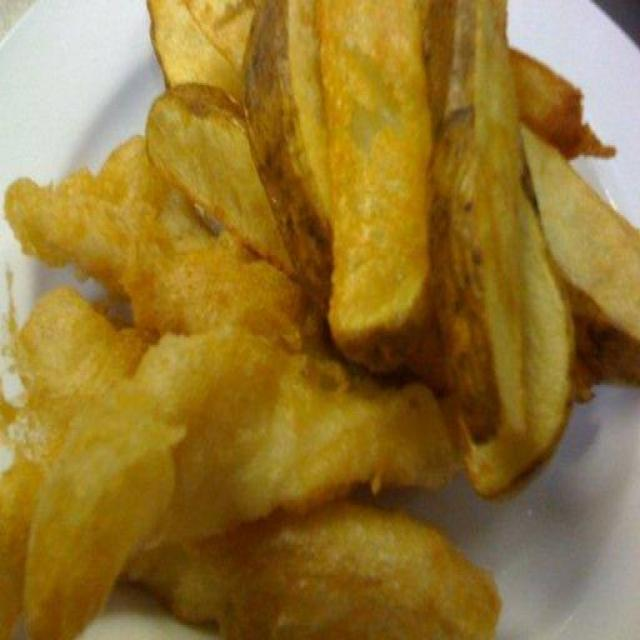food_waste: (3, 9, 619, 640)
